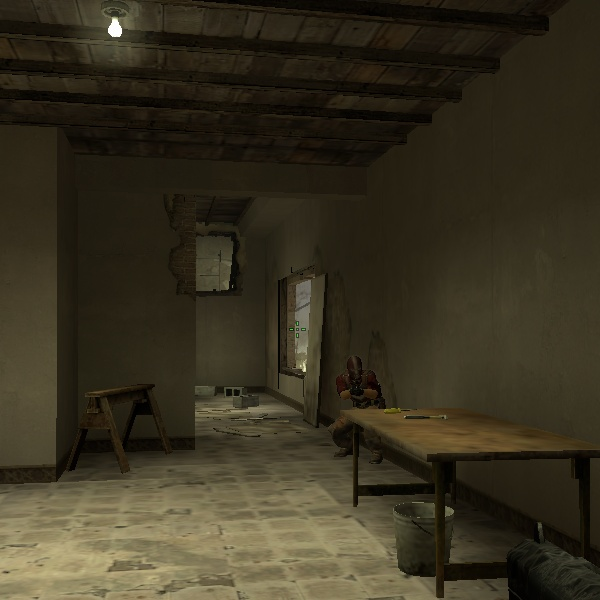t_body: (327, 351, 389, 409)
t_head: (339, 352, 370, 383)
